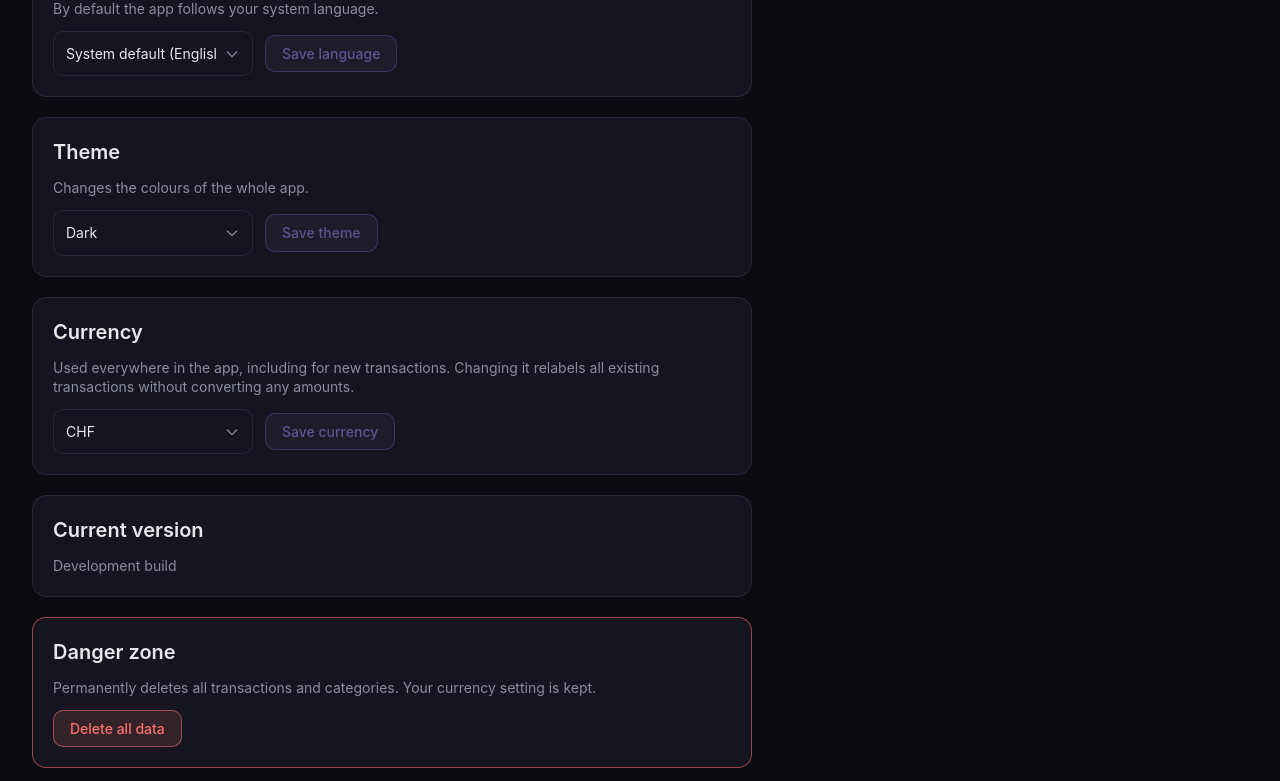
Test case: SettingsPage clear all data › cancelling keeps the data and stays on the settings page
(page scrolled)
Click the button "Delete all data" at (117,728), box 53,710 -> 182,747
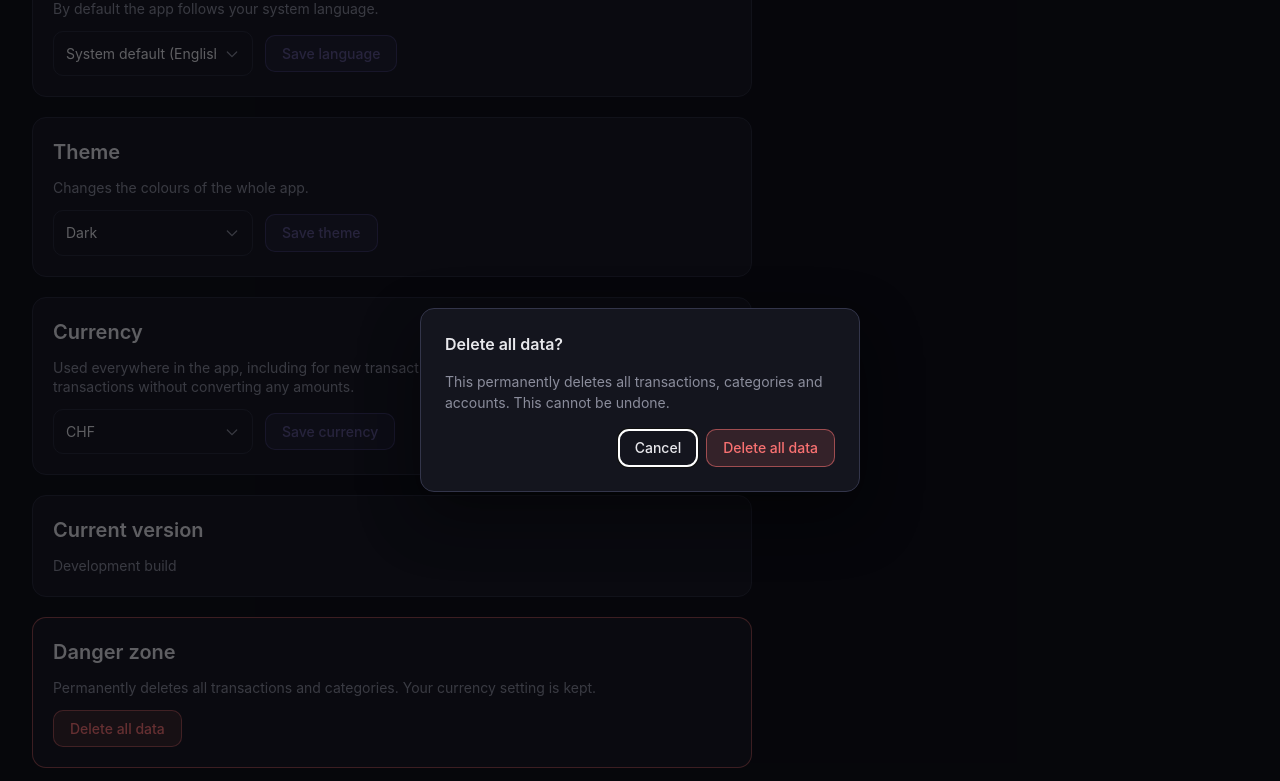
Click the button "Cancel" at (658,448), box 618,429 -> 698,467
(page scrolled)
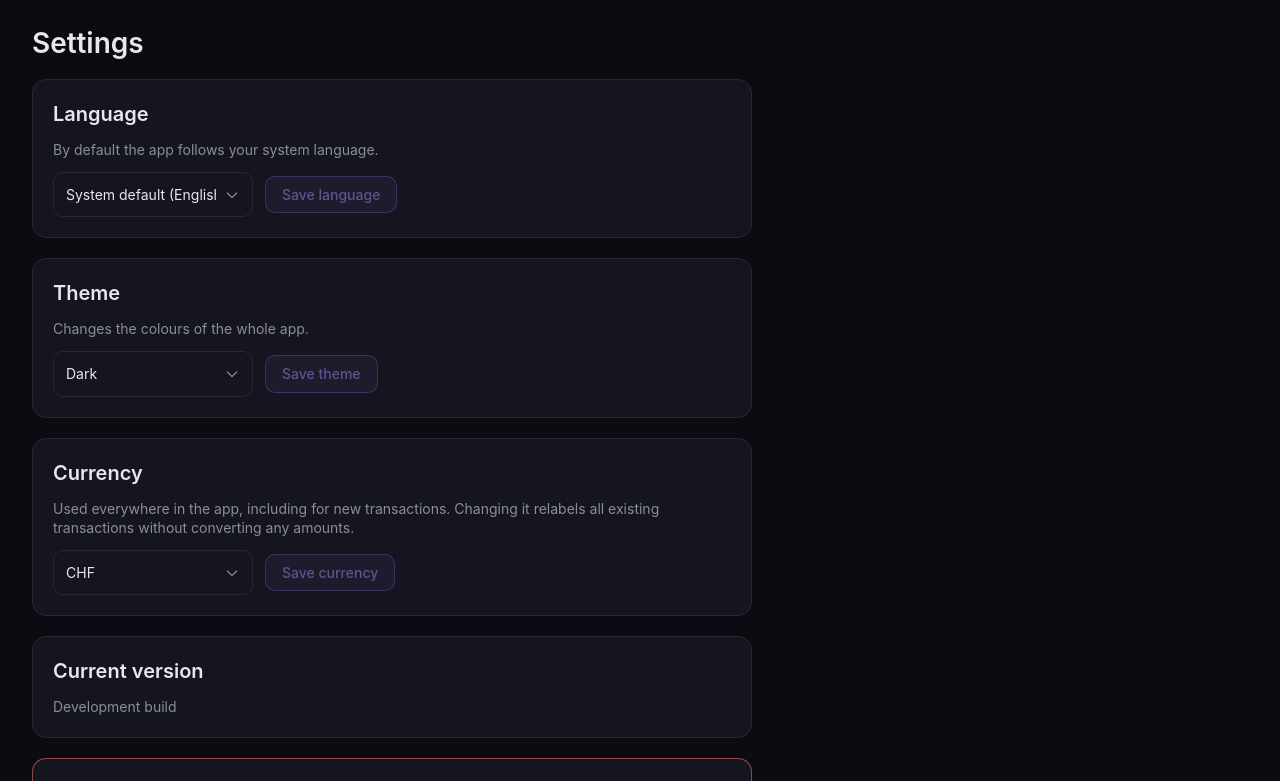
Expected: the heading "Settings" is shown, 32,24 -> 144,63
Expected: the dialog is gone
